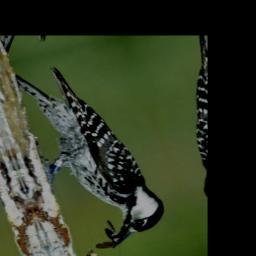Woodpecker: (13, 49, 175, 256)
